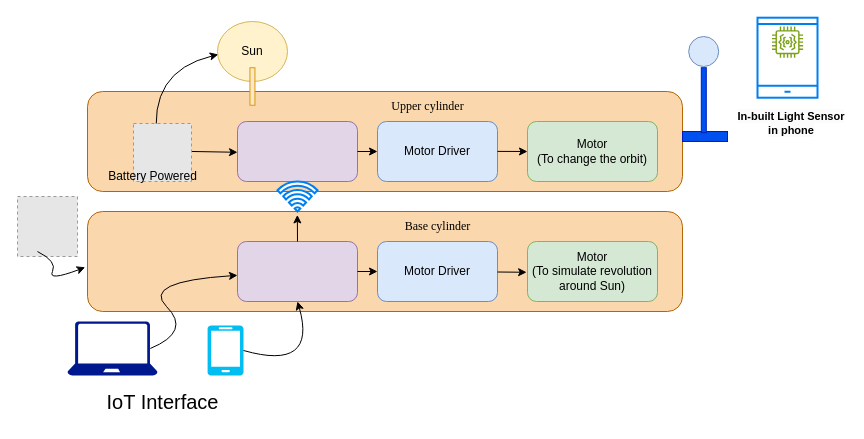
Some shapes in this 864 by 439 pixel diagram are drawn without their labels. Grey dashed boxes stand in for pictures. Each missing label, with the centre of its shape:
"Microcontroller 1" belongs at point 297,271.
"Microcontroller 2" belongs at point 297,151.
